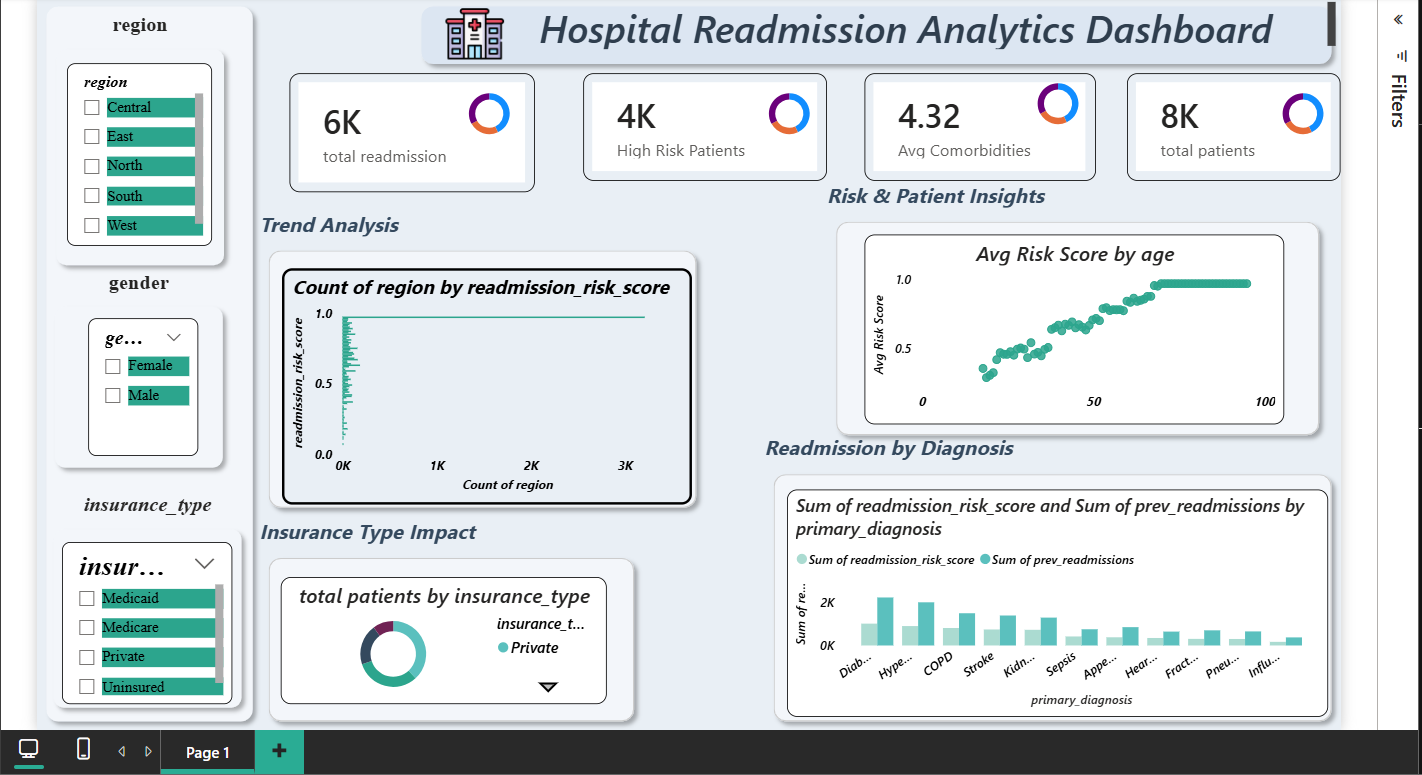

This screenshot's page, from the dashboard's own definition file:
{"tool":"powerbi","page":{"name":"Page 1","canvas":[1280,720],"ordinal":0},"visuals":[{"type":"shape","title":"Insurance Type Impact","box":[218.4,510.4,376.7,209.8],"z":0},{"type":"shape","title":"Risk & Patient Insights","box":[775.5,180.4,492,258.9],"z":1000},{"type":"shape","title":"Trend Analysis","box":[218.3,209.1,437.7,301.9],"z":2000},{"type":"shape","box":[0,0,220.9,720.2],"z":3000},{"type":"shape","title":"gender","box":[8.6,268.7,182.8,202.5],"z":4000},{"type":"shape","title":"region","box":[9.8,16,182.8,256.4],"z":5000},{"type":"shape","box":[368.1,0,911.7,74.8],"z":6000},{"type":"textbox","box":[488.3,0,791.4,56.4],"z":7000},{"type":"image","box":[386.5,7.4,87.1,57.7],"z":8000},{"type":"slicer","fields":{"Values":["hospital_readmission_dataset.region"]},"box":[29.4,65,142.3,179.1],"z":9000},{"type":"slicer","fields":{"Values":["hospital_readmission_dataset.gender"]},"box":[50.3,315.3,108,135],"z":10000},{"type":"shape","title":"insurance_type","box":[7.4,487.1,202.5,219.6],"z":11000},{"type":"slicer","fields":{"Values":["hospital_readmission_dataset.insurance_type"]},"box":[24.5,535,166.9,159.5],"z":12000},{"type":"barChart","fields":{"Y":["CountNonNull(hospital_readmission_dataset.region)"],"Category":["hospital_readmission_dataset.readmission_risk_score"]},"box":[240.5,266.3,402.5,231.9],"z":13000},{"type":"scatterChart","fields":{"Y":["Measures Table.Avg Risk Score"],"X":["hospital_readmission_dataset.age"]},"box":[812.3,233.1,412.3,186.5],"z":14000},{"type":"shape","title":"Readmission by Diagnosis","box":[714.1,428.2,565.6,292],"z":15000},{"type":"clusteredColumnChart","fields":{"Category":["hospital_readmission_dataset.primary_diagnosis"],"Y":["Sum(hospital_readmission_dataset.readmission_risk_score)","Sum(hospital_readmission_dataset.prev_readmissions)"]},"box":[736.2,483.4,531.3,223.3],"z":16000},{"type":"donutChart","fields":{"Category":["hospital_readmission_dataset.insurance_type"],"Y":["Measures Table.total patients"]},"box":[239.3,569.3,320.2,125.2],"z":17000},{"type":"cardVisual","fields":{"Data":["Measures Table.total patients"]},"box":[1069.9,74.8,209.8,105.5],"z":18000},{"type":"cardVisual","fields":{"Data":["Measures Table.High Risk Patients"]},"box":[536.2,74.8,239.3,105.5],"z":19000},{"type":"cardVisual","fields":{"Data":["Measures Table.total readmission"]},"box":[247.9,74.8,240.5,116.6],"z":20000},{"type":"cardVisual","fields":{"Data":["Measures Table.Avg Comorbidities"]},"box":[812.3,74.8,227,105.5],"z":21000},{"type":"donutChart","fields":{"Y":["Measures Table.total patients","Measures Table.Avg Comorbidities","Measures Table.High Risk Patients","Measures Table.total readmission"]},"box":[407.4,84.7,73.6,60.1],"z":22000},{"type":"donutChart","fields":{"Y":["Measures Table.total patients","Measures Table.Avg Comorbidities","Measures Table.High Risk Patients","Measures Table.total readmission"]},"box":[701.8,84.7,73.6,60.1],"z":22001},{"type":"donutChart","fields":{"Y":["Measures Table.total patients","Measures Table.Avg Comorbidities","Measures Table.High Risk Patients","Measures Table.total readmission"]},"box":[965.6,74.8,73.6,60.1],"z":22002},{"type":"donutChart","fields":{"Y":["Measures Table.total patients","Measures Table.Avg Comorbidities","Measures Table.High Risk Patients","Measures Table.total readmission"]},"box":[1206.1,84.7,73.6,60.1],"z":22003}]}

Visuals, with their boxes on the page's 1280x720 design canvas (x1, y1, x2, y2). These are canvas units, not pixel positions in the 1422x775 screenshot, which may show the page scaled, cropped or inside an application window:
"Insurance Type Impact" shape: box=[218, 510, 595, 720]
"Risk & Patient Insights" shape: box=[776, 180, 1268, 439]
"Trend Analysis" shape: box=[218, 209, 656, 511]
shape: box=[0, 0, 221, 720]
"gender" shape: box=[9, 269, 191, 471]
"region" shape: box=[10, 16, 193, 272]
shape: box=[368, 0, 1280, 75]
textbox: box=[488, 0, 1280, 56]
image: box=[386, 7, 474, 65]
slicer - hospital_readmission_dataset.region: box=[29, 65, 172, 244]
slicer - hospital_readmission_dataset.gender: box=[50, 315, 158, 450]
"insurance_type" shape: box=[7, 487, 210, 707]
slicer - hospital_readmission_dataset.insurance_type: box=[24, 535, 191, 694]
barChart - CountNonNull(hospital_readmission_dataset.region) x hospital_readmission_dataset.readmission_risk_score: box=[240, 266, 643, 498]
scatterChart - Measures Table.Avg Risk Score x hospital_readmission_dataset.age: box=[812, 233, 1225, 420]
"Readmission by Diagnosis" shape: box=[714, 428, 1280, 720]
clusteredColumnChart - hospital_readmission_dataset.primary_diagnosis x Sum(hospital_readmission_dataset.readmission_risk_score): box=[736, 483, 1268, 707]
donutChart - hospital_readmission_dataset.insurance_type x Measures Table.total patients: box=[239, 569, 560, 694]
cardVisual - Measures Table.total patients: box=[1070, 75, 1280, 180]
cardVisual - Measures Table.High Risk Patients: box=[536, 75, 776, 180]
cardVisual - Measures Table.total readmission: box=[248, 75, 488, 191]
cardVisual - Measures Table.Avg Comorbidities: box=[812, 75, 1039, 180]
donutChart - Measures Table.total patients x Measures Table.Avg Comorbidities: box=[407, 85, 481, 145]
donutChart - Measures Table.total patients x Measures Table.Avg Comorbidities: box=[702, 85, 775, 145]
donutChart - Measures Table.total patients x Measures Table.Avg Comorbidities: box=[966, 75, 1039, 135]
donutChart - Measures Table.total patients x Measures Table.Avg Comorbidities: box=[1206, 85, 1280, 145]
